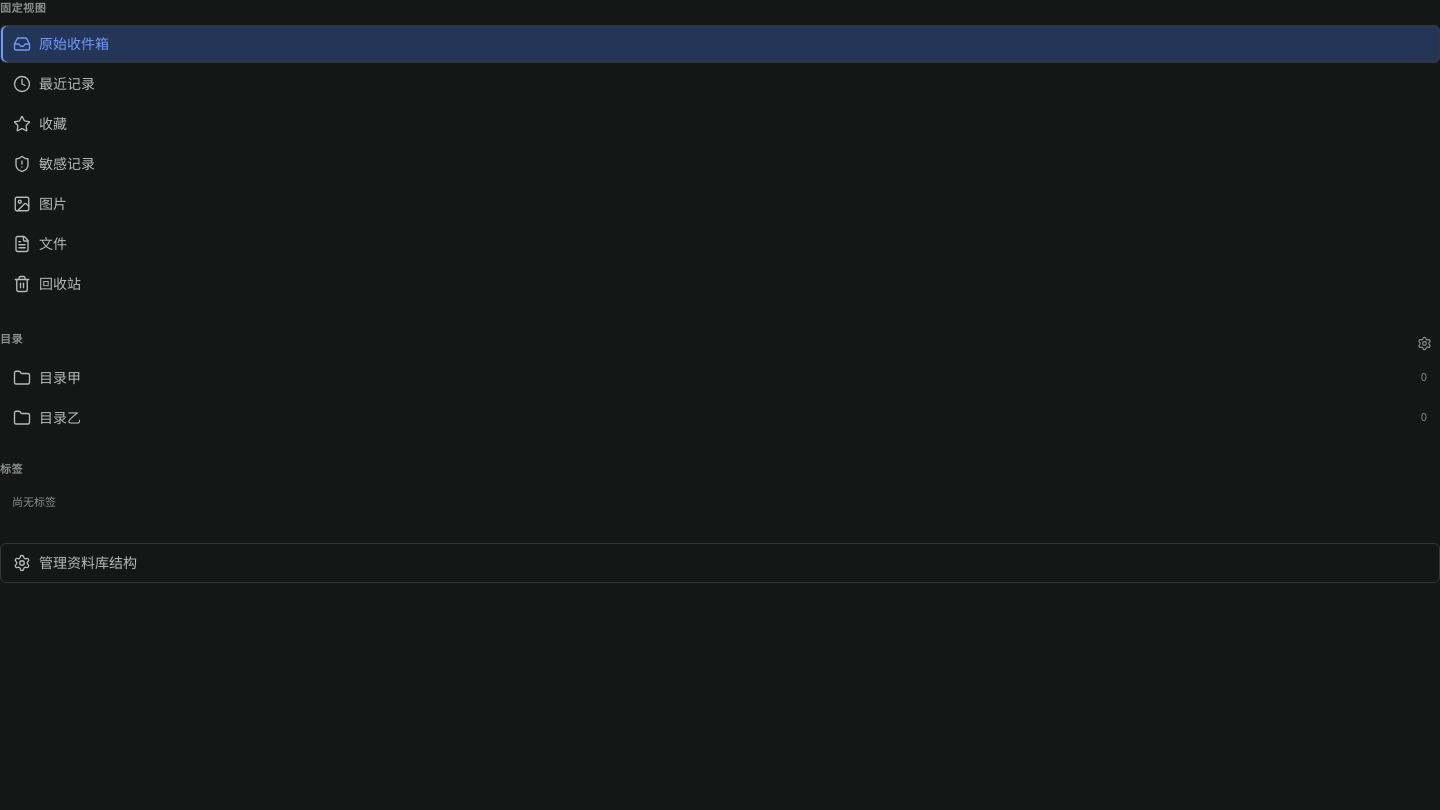
Test: KnowledgeModuleNav 导航读取失败的共享恢复（DT-R289） › rename 成功读失败后 move 真正失败：草稿与写错误保留，只读恢复不重放写入并回焦编辑表单
Click the button "管理资料库结构".
click(88, 563)  # box x1=0 y1=543 x2=1439 y2=583
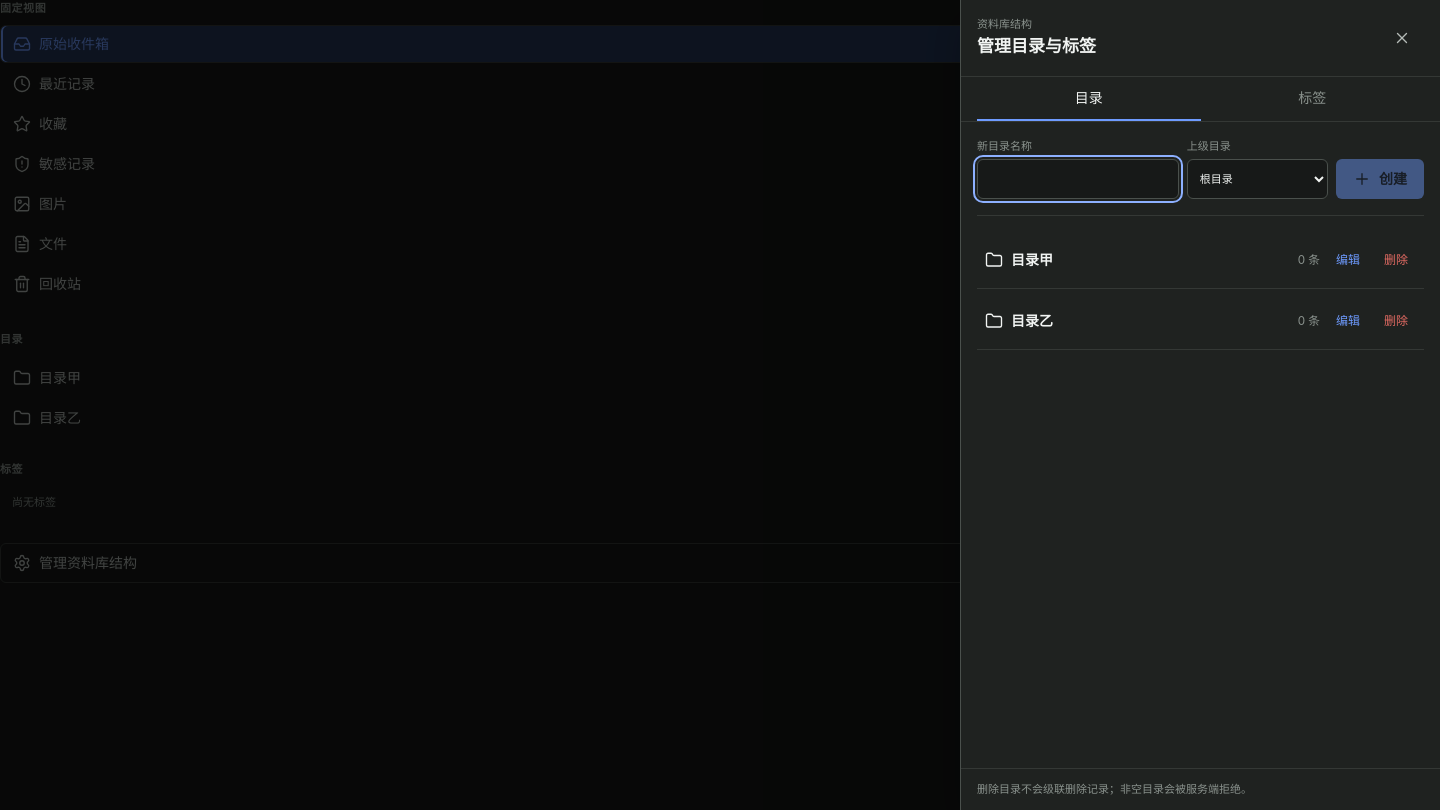
Now the dialog with class "manager" is shown, box x1=960 y1=0 x2=1439 y2=809
Now the list item "目录甲 0 条 编辑 删除" is shown, box x1=977 y1=232 x2=1424 y2=289
Now the 1st button "编辑" is shown
Click the 1st button "编辑".
click(1348, 260)  # box x1=1328 y1=240 x2=1368 y2=280
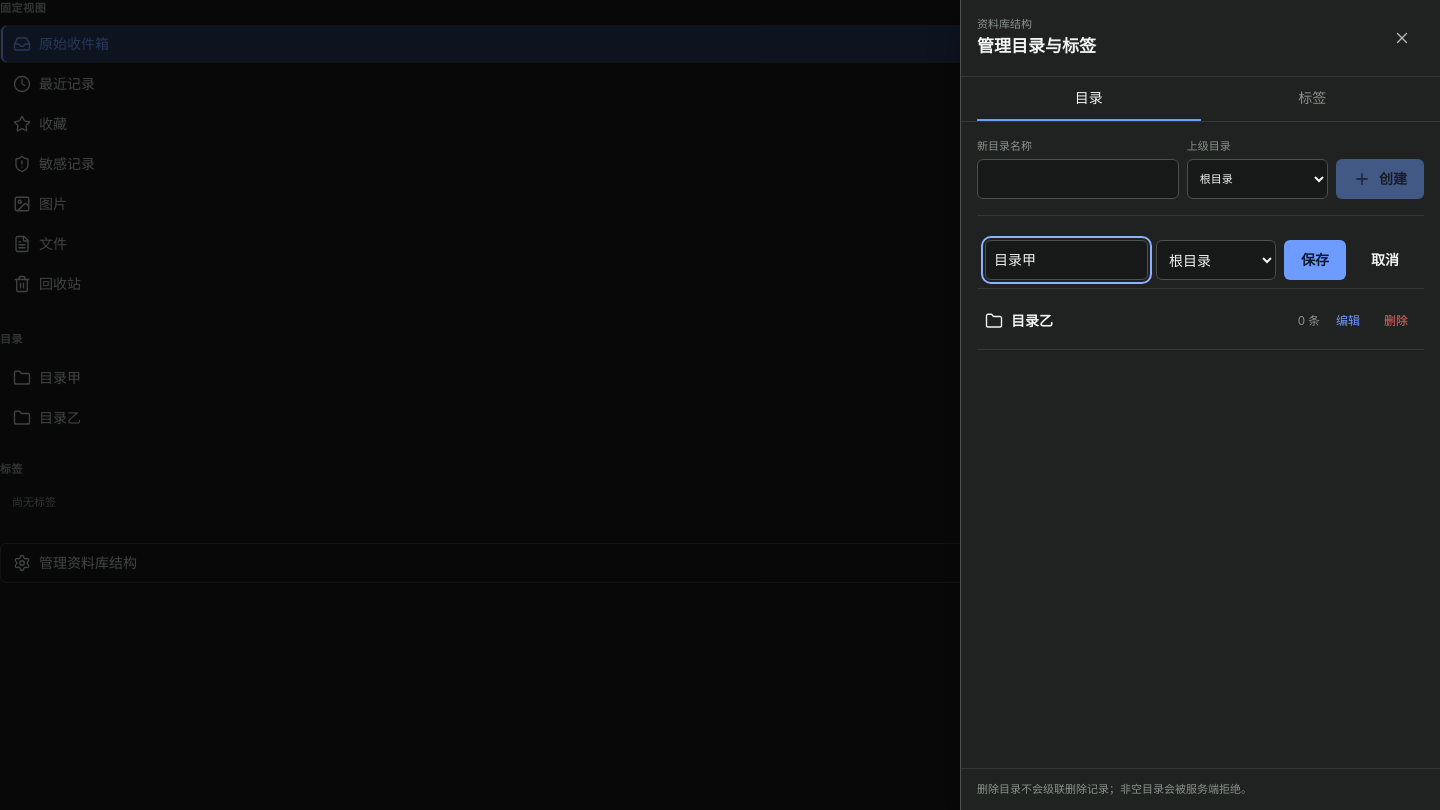
Now the field named "目录名称" is shown
Now the dropdown named "上级目录" is shown, box x1=1156 y1=240 x2=1276 y2=280
Replace the text in the field named "目录名称" with "目录甲改" at point(1066, 260), box x1=985 y1=240 x2=1148 y2=280
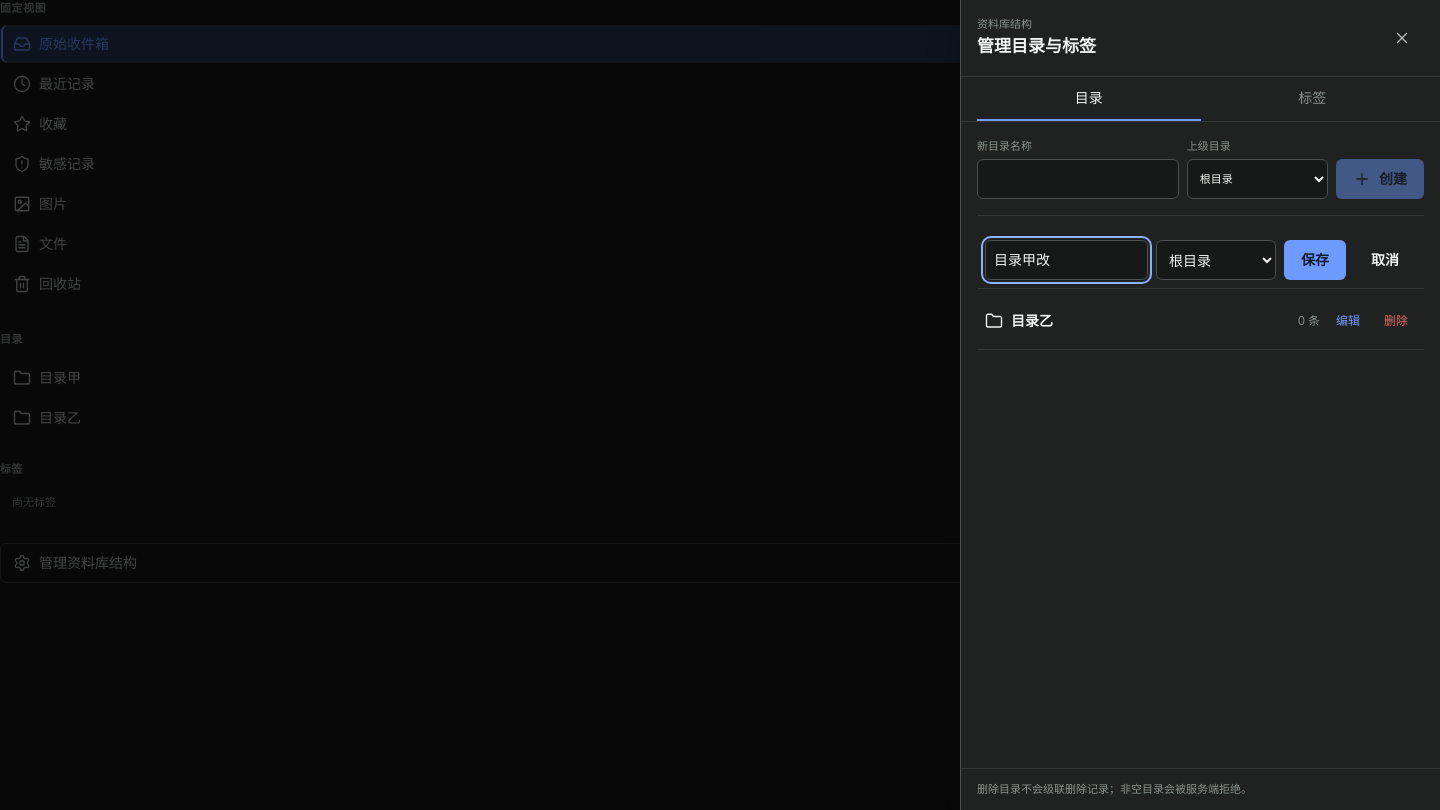
Select "目录乙" in the dropdown named "上级目录" at point(1216, 260), box x1=1156 y1=240 x2=1276 y2=280
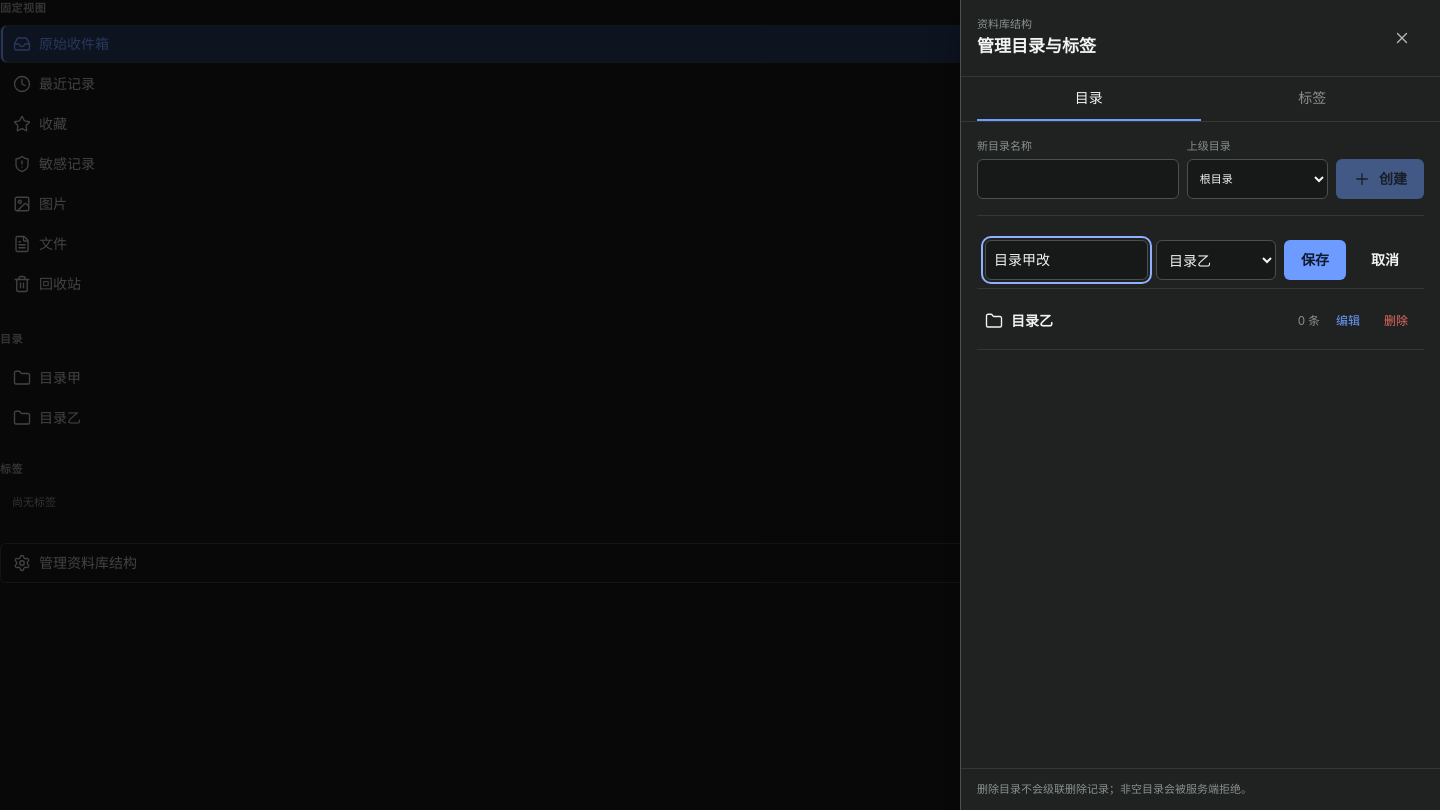
Now the button "保存" is shown
Click the button "保存".
click(1315, 260)  # box x1=1284 y1=240 x2=1346 y2=280
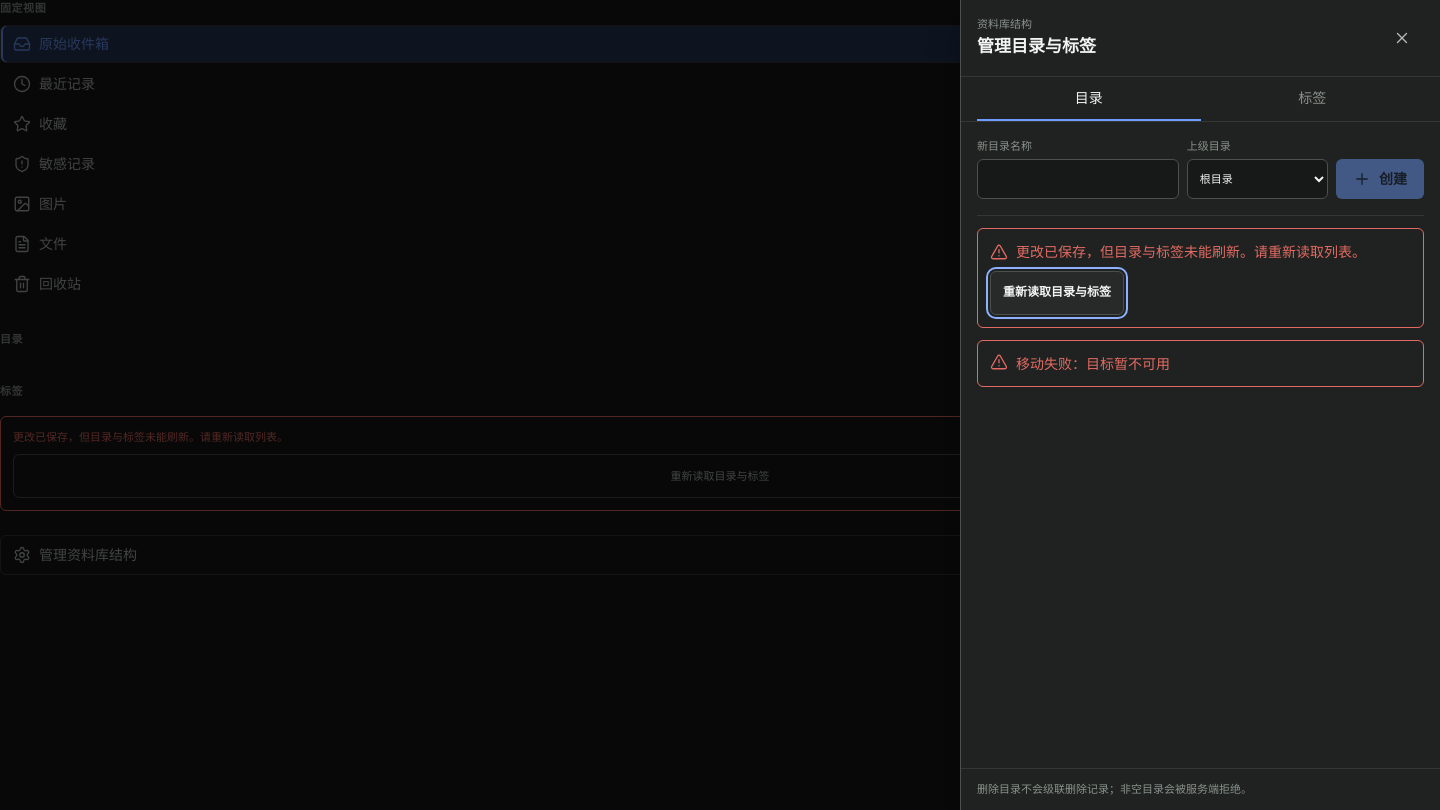
Now the message with class "manager__error" reads "移动失败：目标暂不可用", box x1=1016 y1=355 x2=1170 y2=372
Now the message with class "manager__nav-error" shows "更改已保存，但目录与标签未能刷新。请重新读取列表。", box x1=1016 y1=243 x2=1366 y2=260
Now the form with class "edit-form" is gone
Click the button "重新读取目录与标签".
click(1057, 293)  # box x1=990 y1=271 x2=1124 y2=315
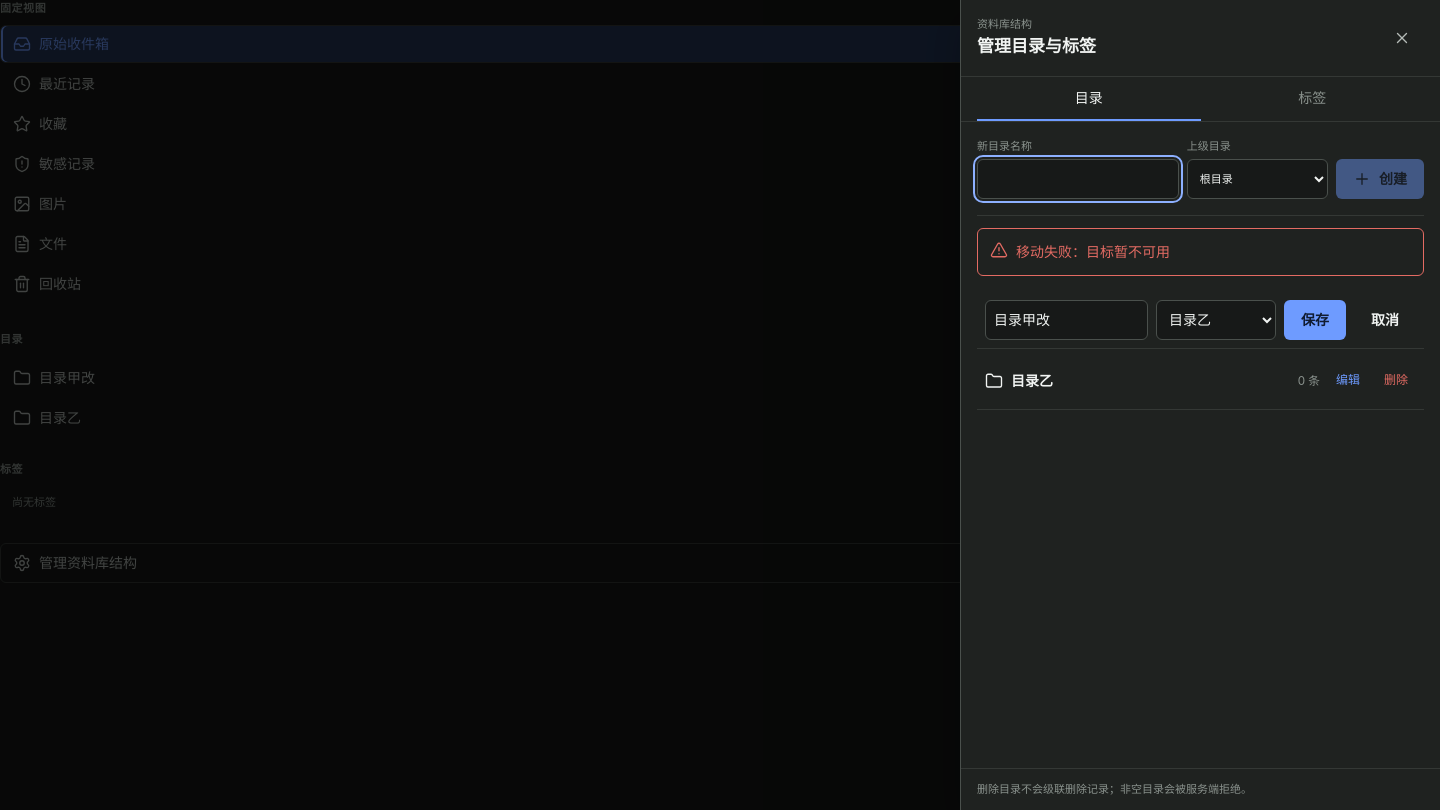
Now the form with class "edit-form" is shown, box x1=985 y1=300 x2=1416 y2=340
Now the field named "目录名称" holds "目录甲改", box x1=985 y1=300 x2=1148 y2=340
Now the dropdown named "上级目录" shows "目录乙", box x1=1156 y1=300 x2=1276 y2=340
